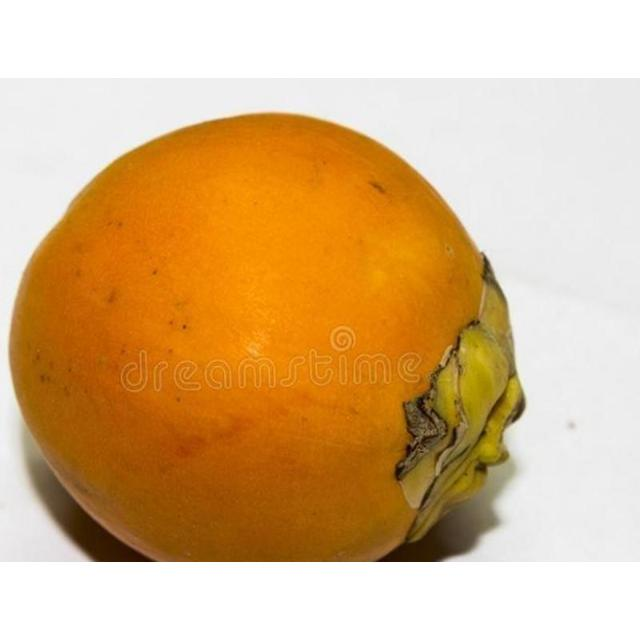good: (7, 113, 526, 561)
